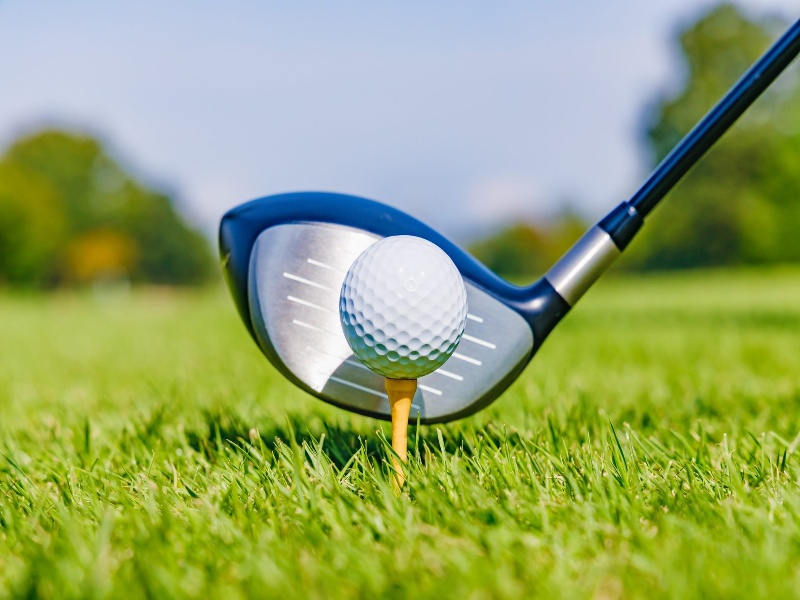golf_ball: (340, 235, 468, 380)
